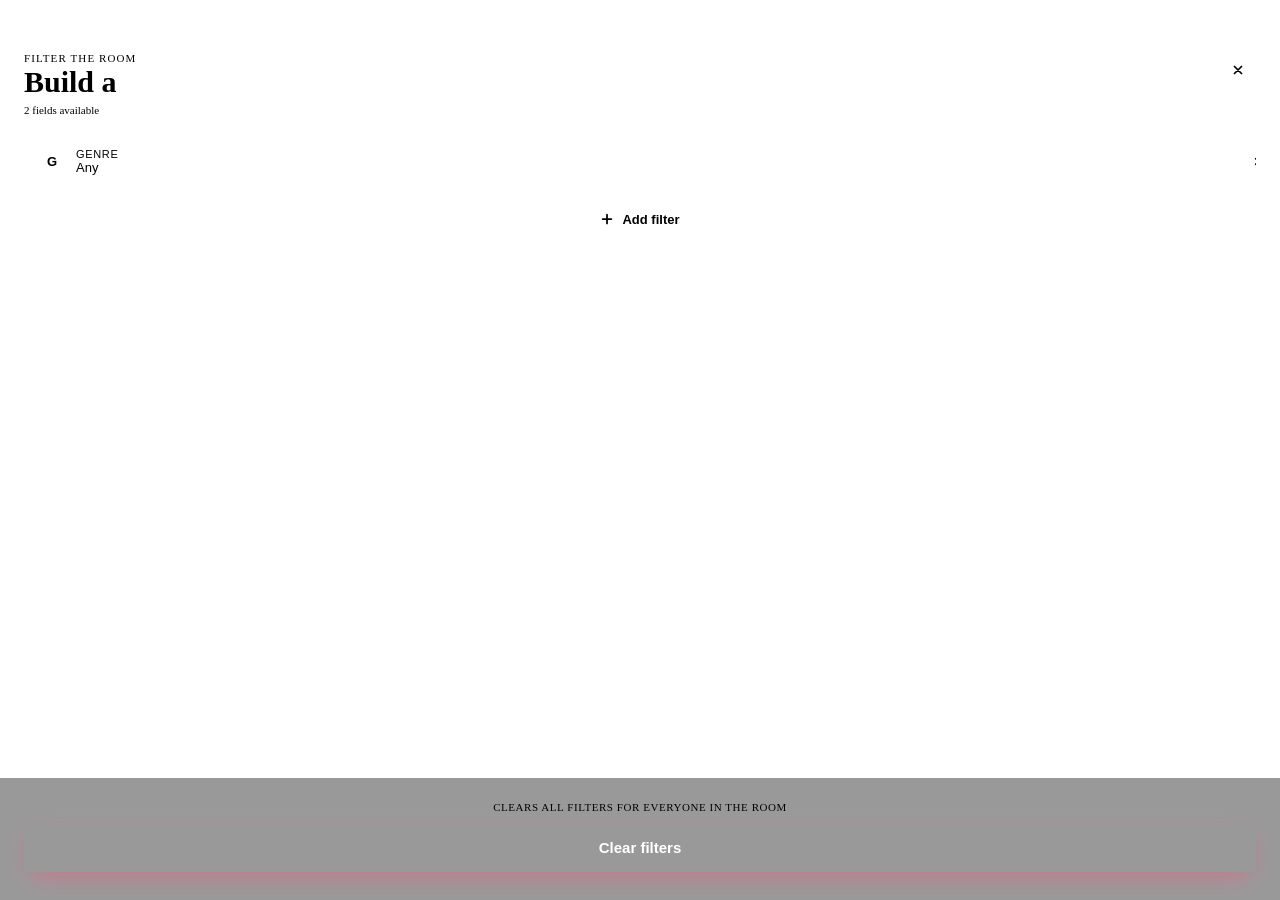
Test: FilterPanel: a row whose values failed to load › a genuinely empty value list still gets the free-text control
Click the button "G Genre Any".
click(97, 154)  # box [38,148,1237,176]
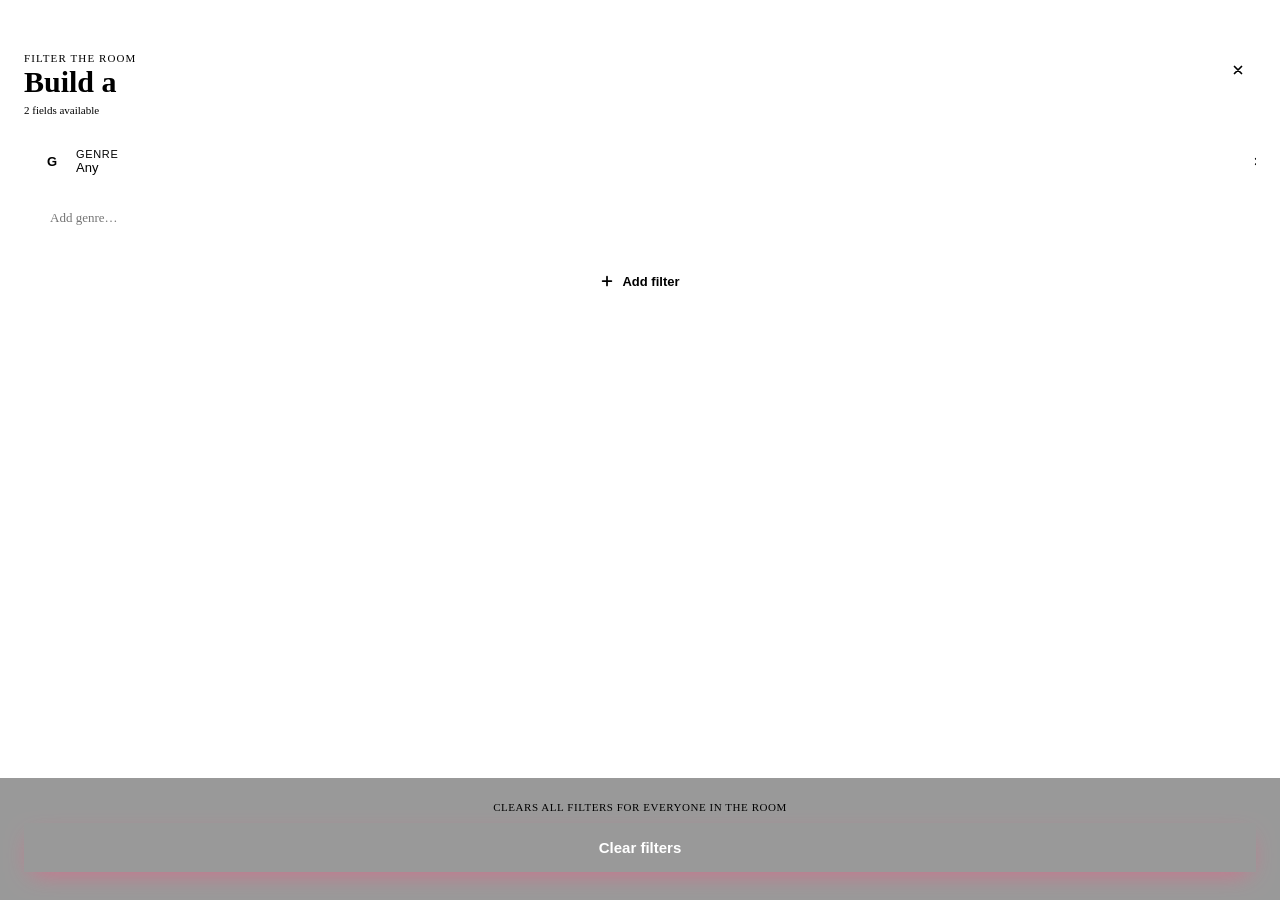
Check: the field with placeholder "Add genre…" is shown, box [38,200,1168,236]
